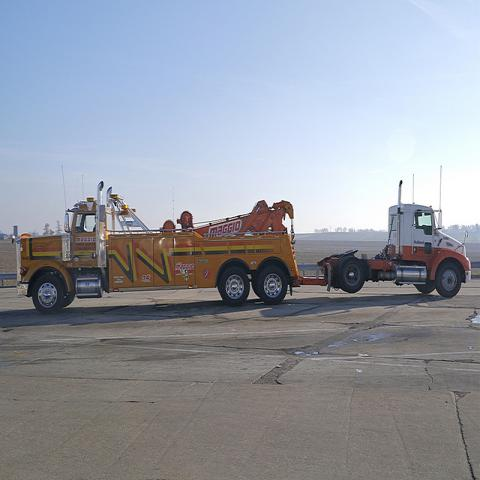truck: (16, 199, 474, 306)
